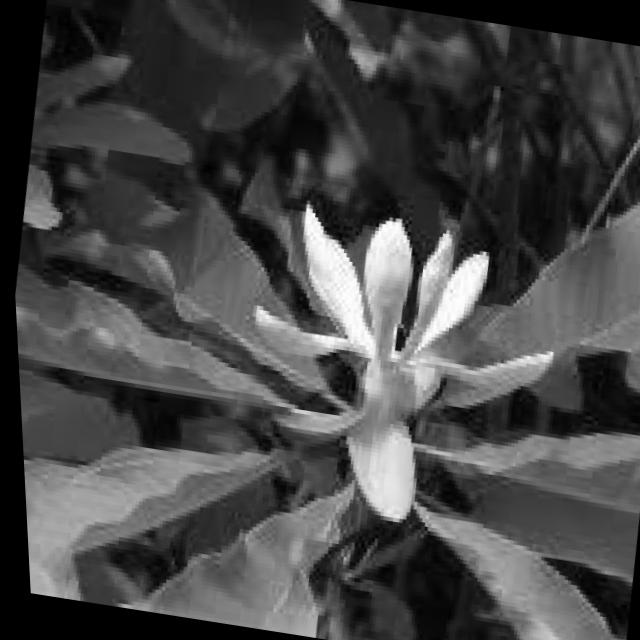Flower: (232, 202, 565, 544)
